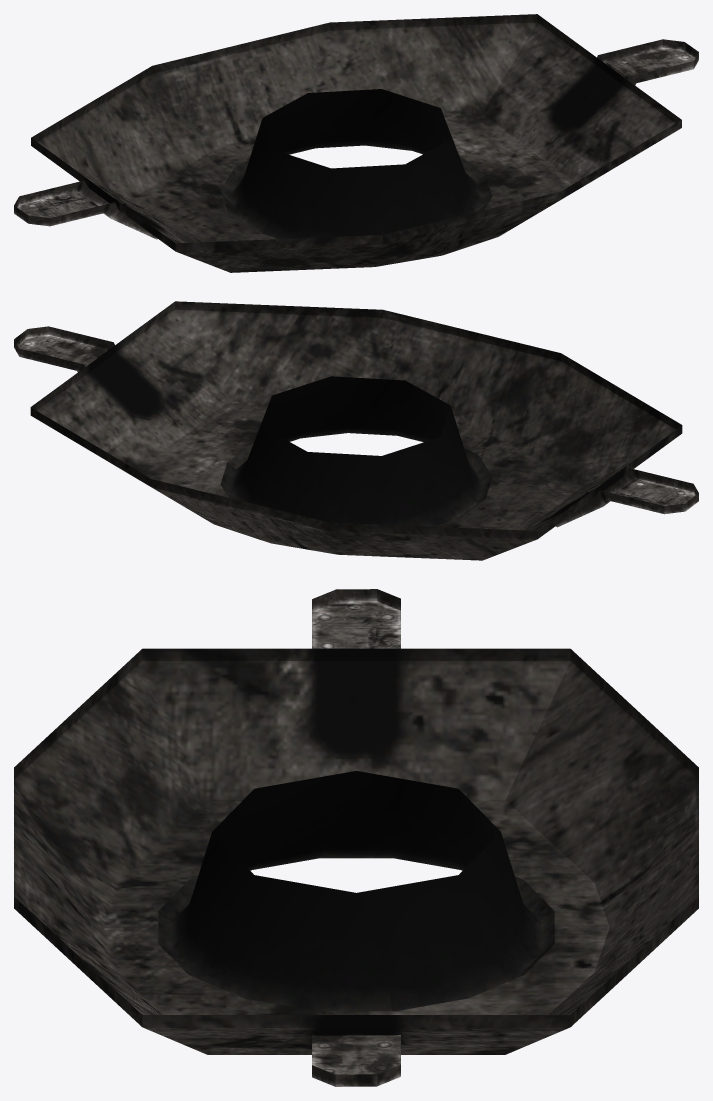
The model's file is control_room_piston_base_ceiling.dae.
3 renders of one model, top to bottom at view 1: azimuth 30°, elevation 25°; view 2: azimuth 150°, elevation 25°; view 3: azimuth 270°, elevation 25°, orthographic. The views are drawn at different scales.
Visible parts, largest first — view 1: control_room_piston_base_ceiling; view 2: control_room_piston_base_ceiling; view 3: control_room_piston_base_ceiling.
Boxes of the visible parts, x1,y1,x2,y2 form: control_room_piston_base_ceiling: [14, 14, 698, 272]; control_room_piston_base_ceiling: [14, 301, 698, 560]; control_room_piston_base_ceiling: [14, 589, 698, 1086].
Bounding box in the file's own units: 4.25 × 0.4249 × 2.54.
